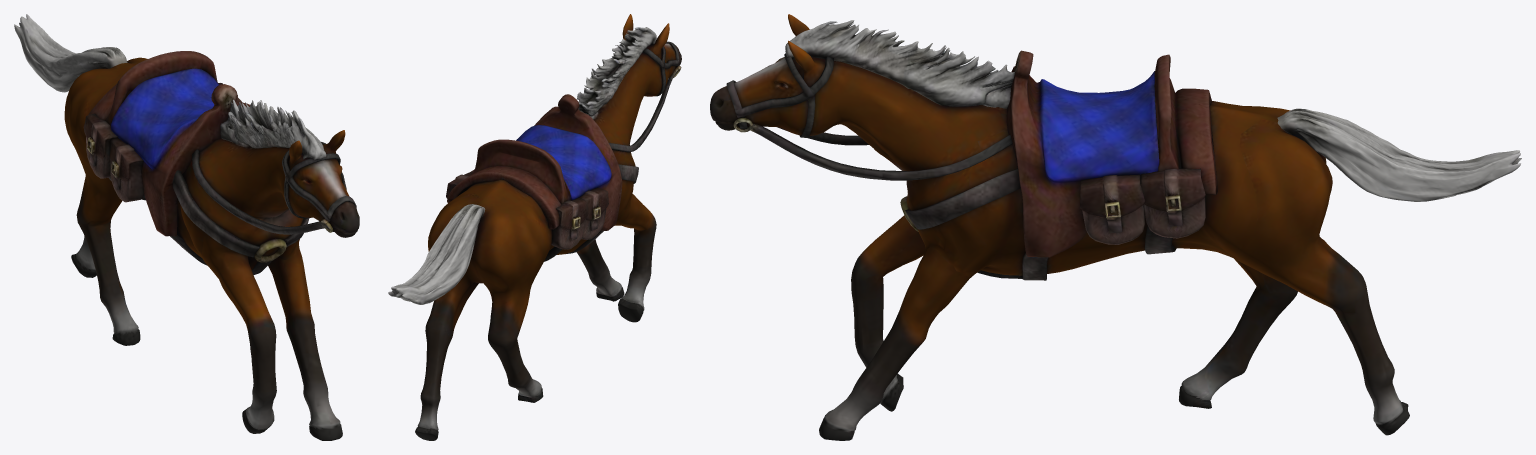
Rendered from MZ4250 - Warhorse Running_Epona.glb.
The picture shows the model from 3 angles, left to right: view 1: azimuth 30°, elevation 25°; view 2: azimuth 150°, elevation 25°; view 3: azimuth 270°, elevation 25°; orthographic projection. The views are drawn at different scales.
Parts seen in each view (by area): view 1: Warhorse running.001; view 2: Warhorse running.001; view 3: Warhorse running.001.
Part boxes in pixels (left/top/right/bottom): Warhorse running.001: left=14, top=14, right=359, bottom=440; Warhorse running.001: left=388, top=14, right=681, bottom=440; Warhorse running.001: left=710, top=14, right=1521, bottom=440.
Size of the model in its own units: 18.25 by 38.98 by 71.12.
1 material, 1 textured.
